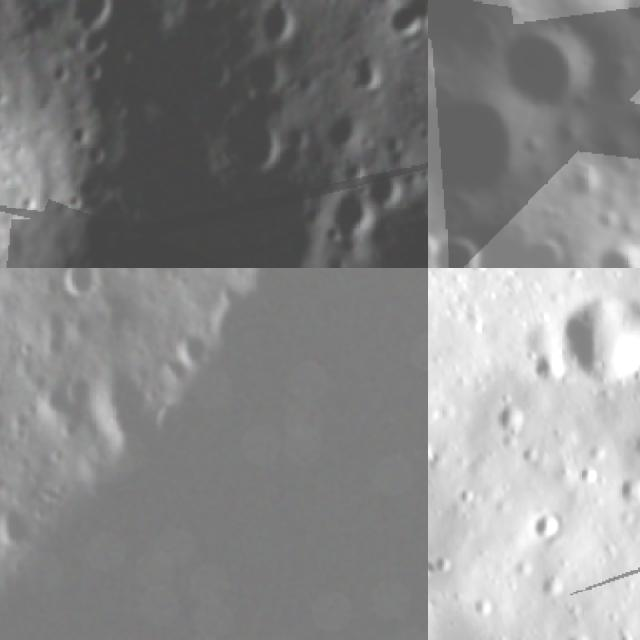crater: (541, 268, 640, 405), (428, 85, 540, 200), (487, 15, 605, 111), (33, 373, 94, 447), (428, 0, 520, 47), (220, 108, 284, 175), (480, 387, 537, 443), (326, 183, 377, 245), (61, 0, 127, 45), (584, 50, 640, 98), (379, 0, 428, 53), (428, 227, 488, 268), (597, 127, 640, 184), (318, 111, 372, 155), (521, 224, 575, 268), (365, 161, 413, 210), (516, 503, 564, 552), (238, 51, 286, 97), (53, 268, 104, 309), (168, 326, 208, 378), (0, 505, 40, 554), (606, 462, 640, 518), (252, 0, 294, 44), (348, 51, 384, 95), (564, 164, 602, 202), (599, 234, 640, 268), (284, 118, 317, 156), (78, 24, 114, 58), (60, 118, 92, 150), (81, 140, 109, 165), (428, 223, 441, 268), (620, 0, 640, 29), (629, 103, 640, 150)
